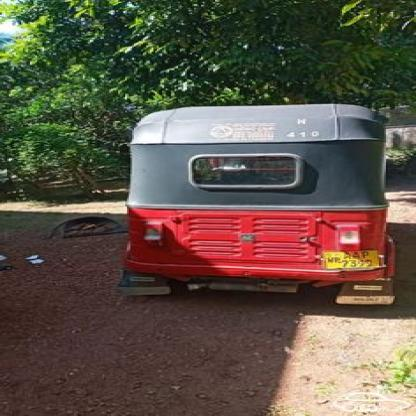number plate: (322, 249, 383, 271)
three wheeler back: (122, 96, 401, 311)
